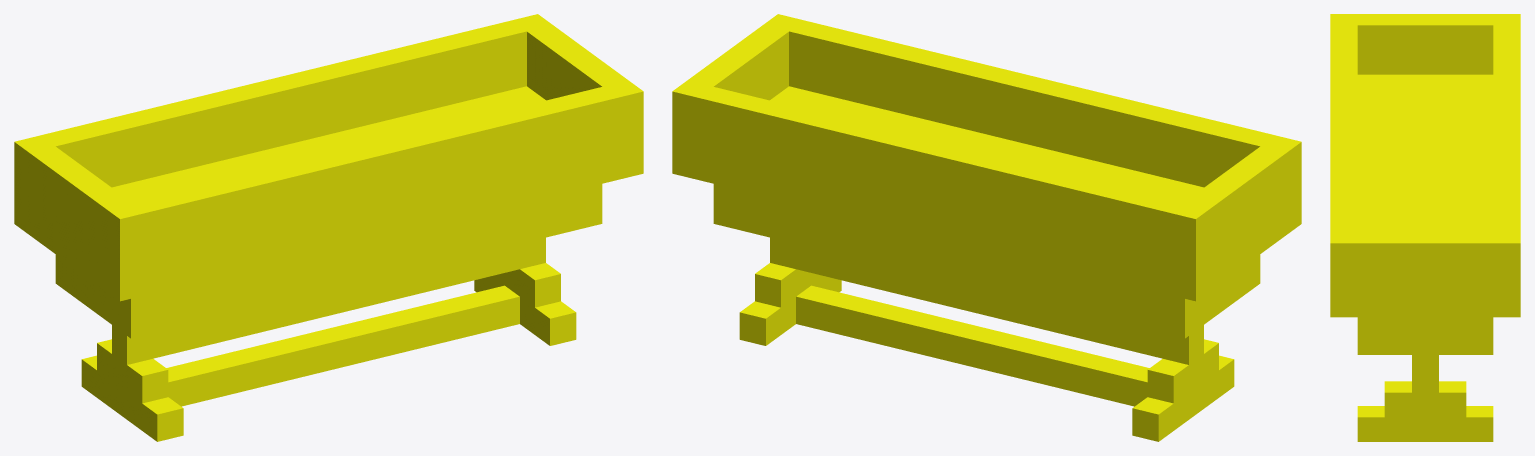
File: voxel-farm-food-trough.glb
3 renders of one model, left to right at view 1: azimuth 30°, elevation 25°; view 2: azimuth 150°, elevation 25°; view 3: azimuth 270°, elevation 25°, orthographic. The views are drawn at different scales.
Parts seen in each view (by area): view 1: VS_Farm_Trough_Food; view 2: VS_Farm_Trough_Food; view 3: VS_Farm_Trough_Food.
Boxes of the visible parts, <box> form: VS_Farm_Trough_Food: <box>14,14,643,441</box>; VS_Farm_Trough_Food: <box>672,14,1301,441</box>; VS_Farm_Trough_Food: <box>1330,14,1520,441</box>.
Size of the model in its own units: 2 by 0.9 by 0.7.
